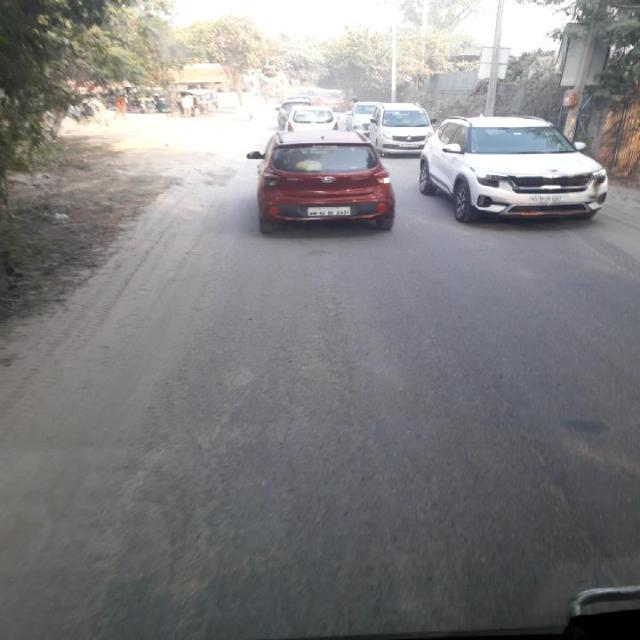D00: (424, 265, 580, 568)
D20: (90, 235, 525, 612)
